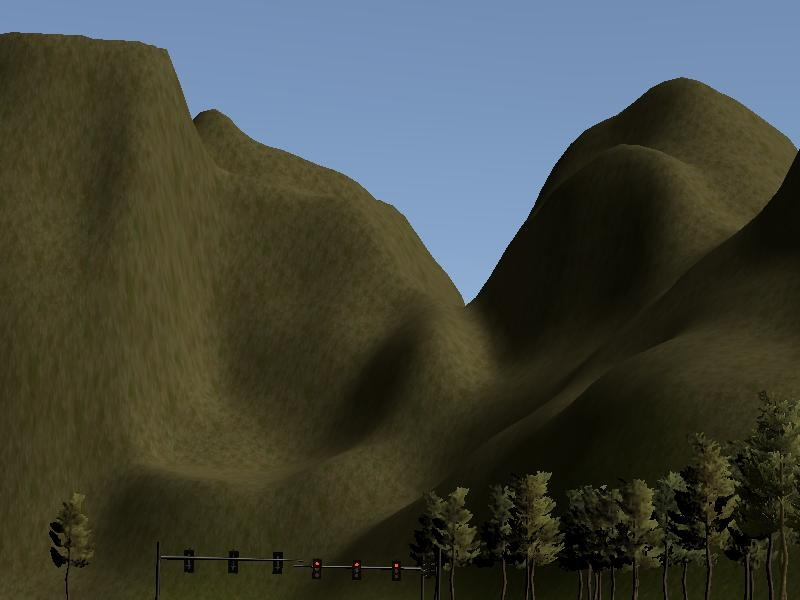red: (345, 558, 369, 587), (386, 558, 409, 585), (306, 553, 327, 582)
